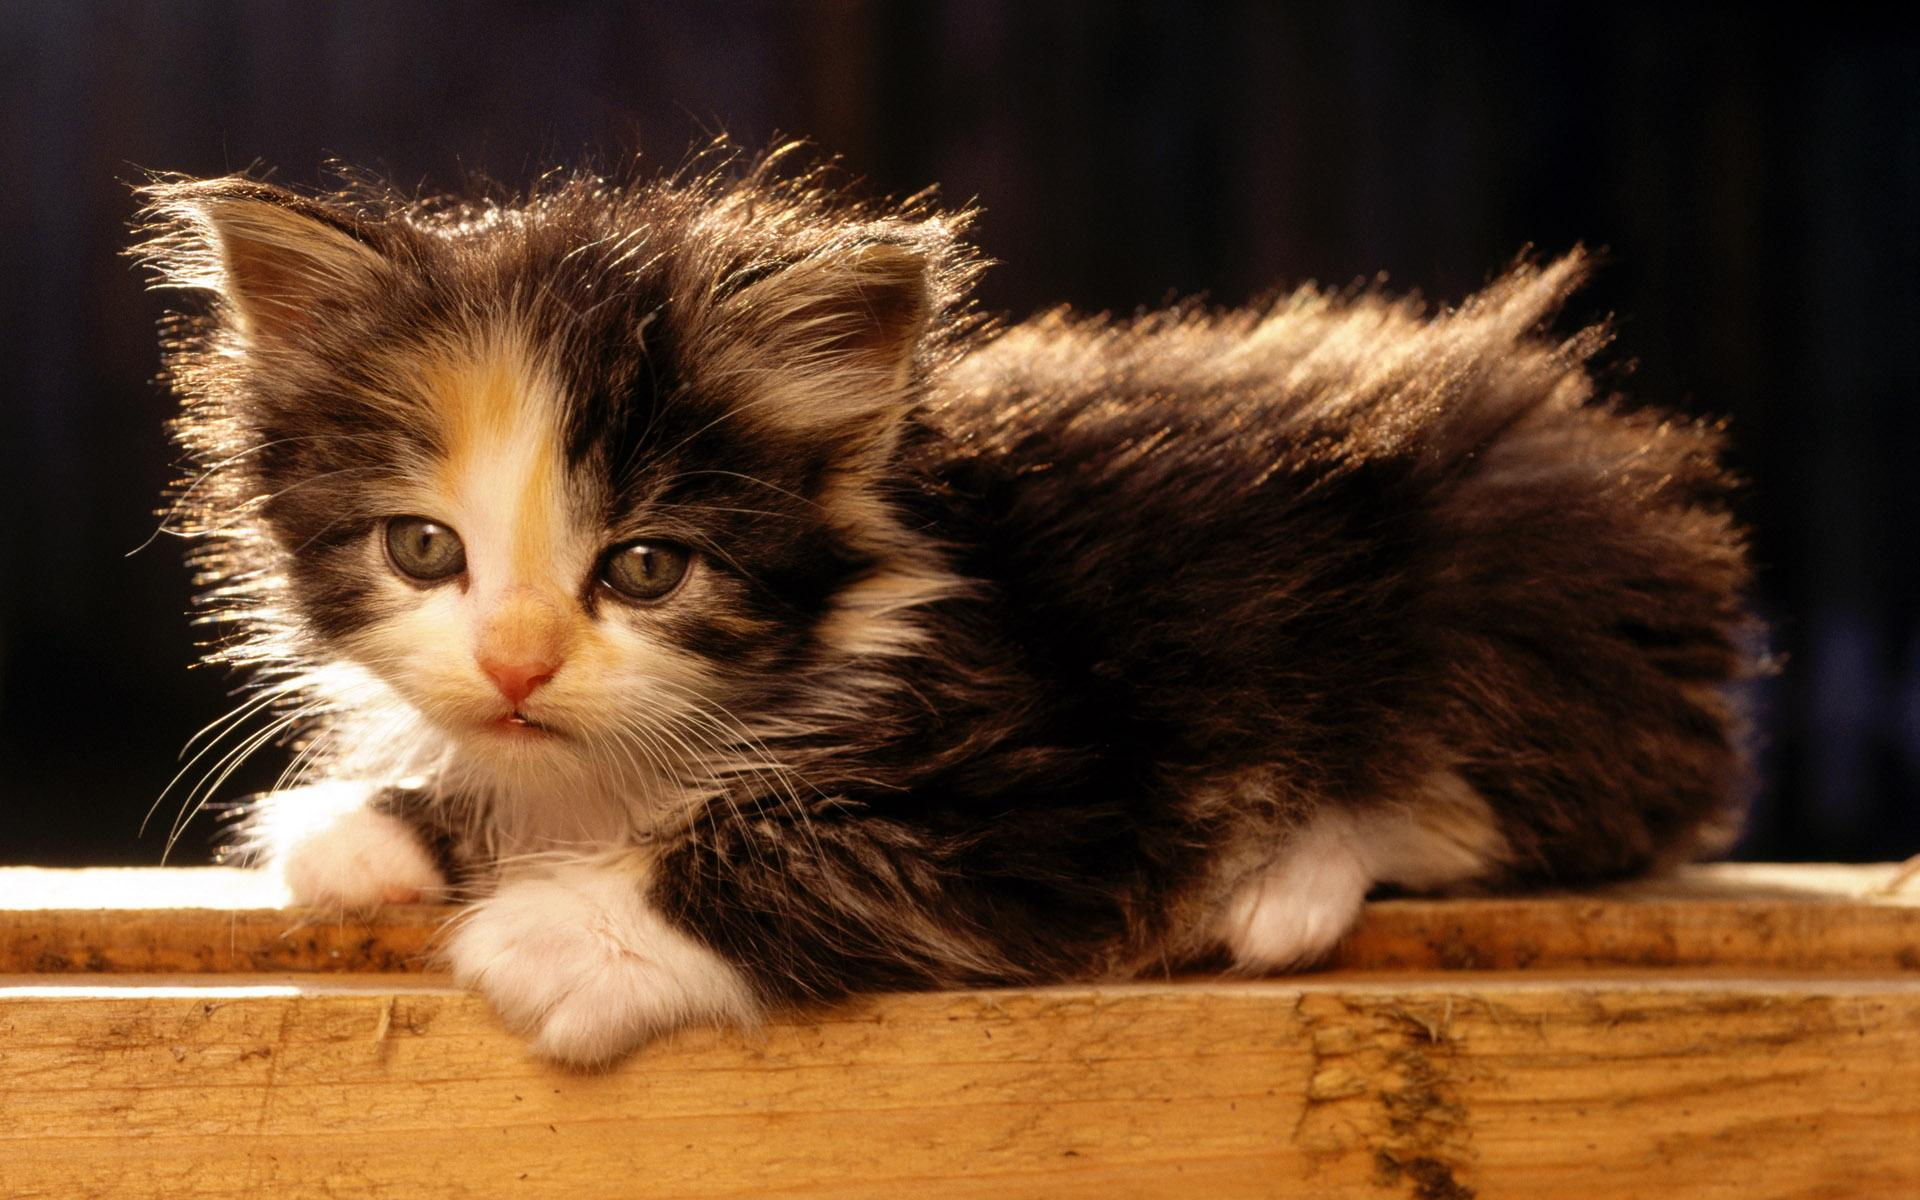cat: (95, 141, 1812, 1077)
